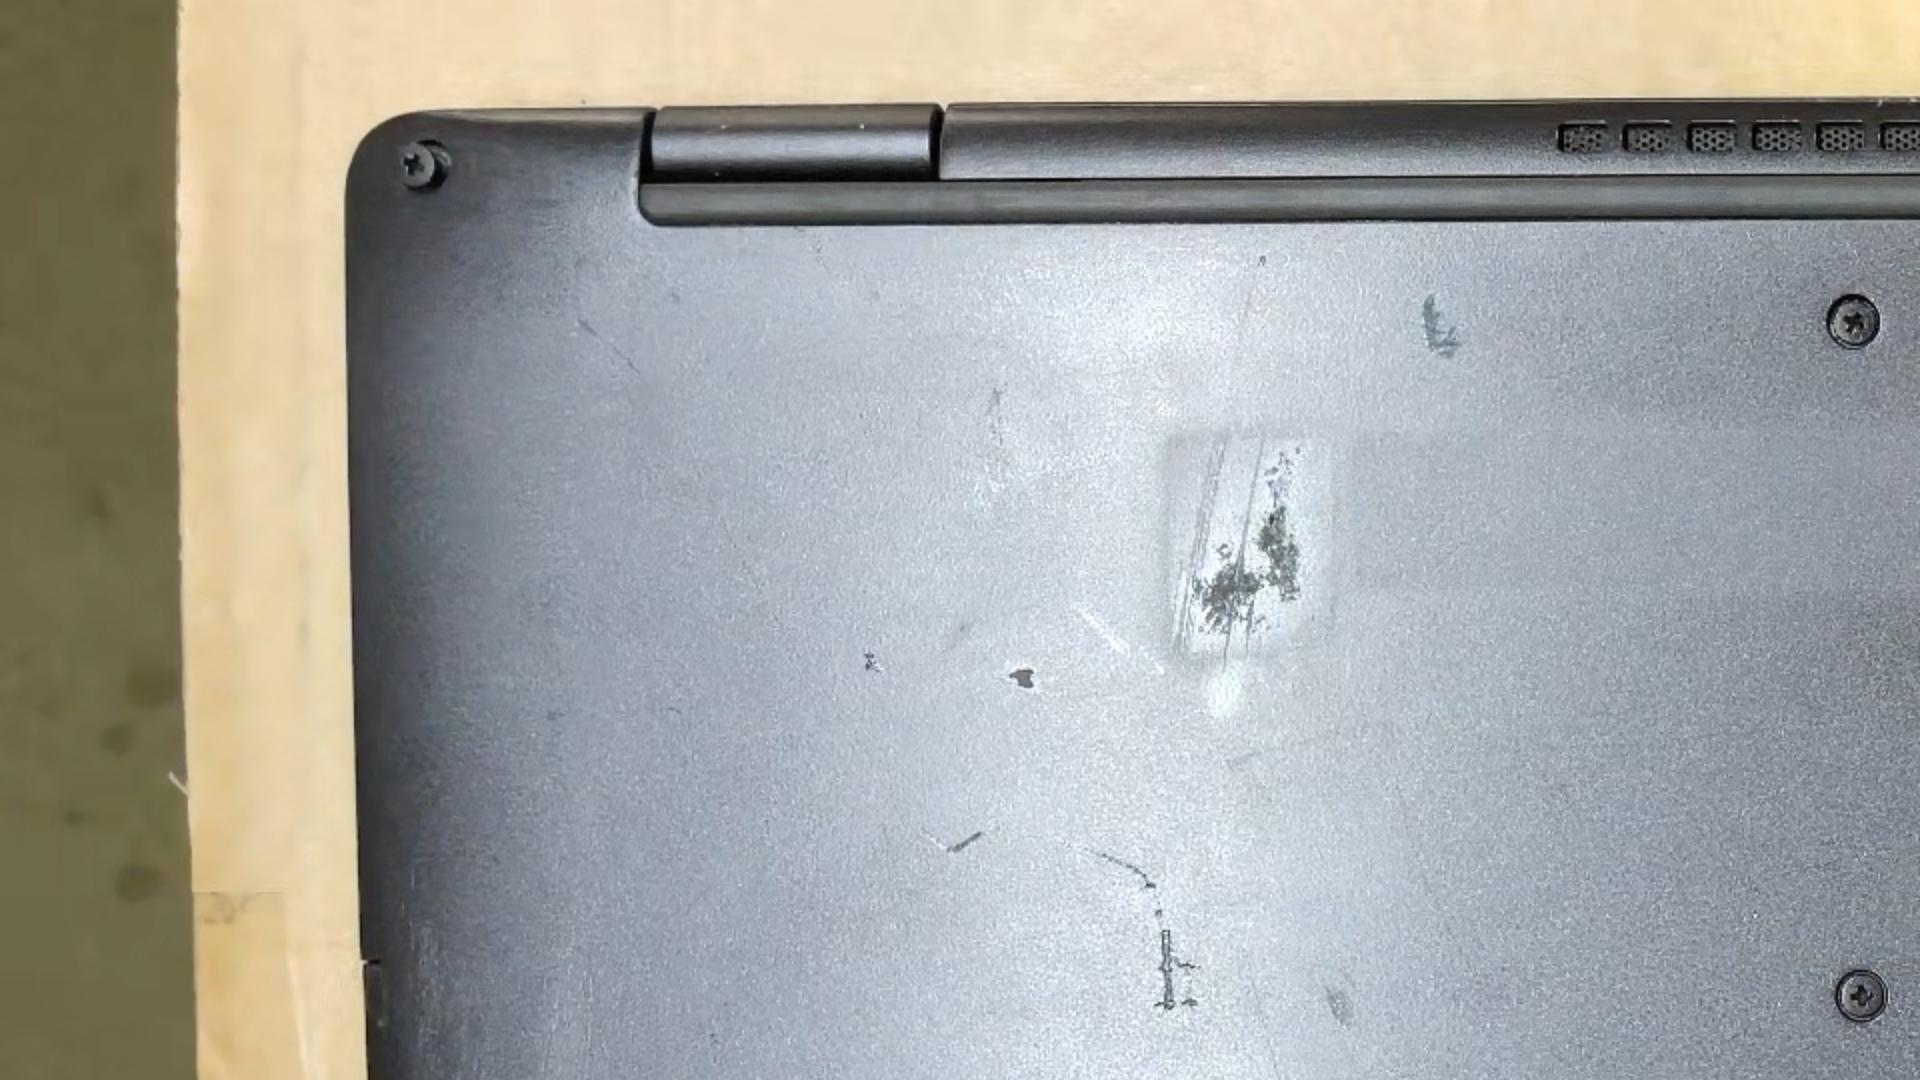chip: (1185, 541, 1279, 642), (1247, 448, 1302, 604), (1418, 291, 1460, 356), (1316, 984, 1361, 1034), (981, 384, 1006, 450), (1007, 666, 1040, 691), (860, 651, 885, 675), (1257, 252, 1269, 269), (857, 121, 868, 132)
scratches: (1059, 837, 1178, 1013), (1393, 781, 1476, 973), (1171, 433, 1229, 654), (1220, 430, 1269, 671), (572, 314, 645, 377), (1245, 965, 1284, 1080), (1069, 601, 1135, 661), (918, 827, 985, 857), (1133, 637, 1170, 676), (1167, 558, 1184, 636), (1244, 578, 1259, 655), (1174, 955, 1201, 971), (1180, 996, 1201, 1007), (410, 866, 415, 890)
